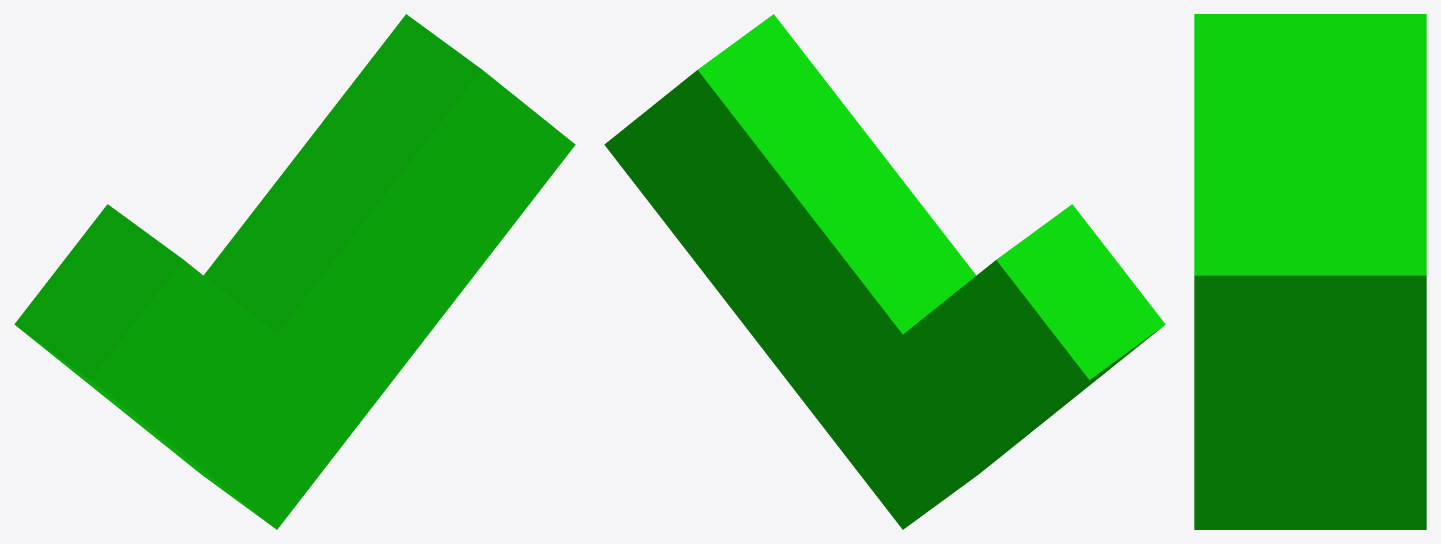
Rendered from Right_Arrow.obj.
The picture shows the model from 3 angles, left to right: view 1: azimuth 30°, elevation 25°; view 2: azimuth 150°, elevation 25°; view 3: azimuth 270°, elevation 25°; orthographic projection. The views are drawn at different scales.
Parts seen in each view (by area): view 1: object1; view 2: object1; view 3: object1.
Part boxes in pixels (x1=…): object1: x1=14, y1=14, x2=575, y2=529; object1: x1=604, y1=14, x2=1165, y2=529; object1: x1=1194, y1=14, x2=1426, y2=529.
Bounding box in the file's own units: 9.73 × 7.86 × 2.65.
